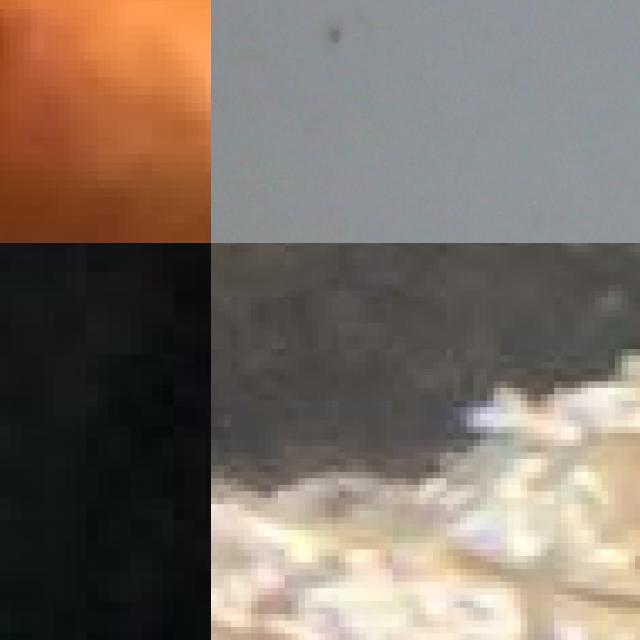fish: (473, 265, 640, 640), (0, 0, 211, 243)
